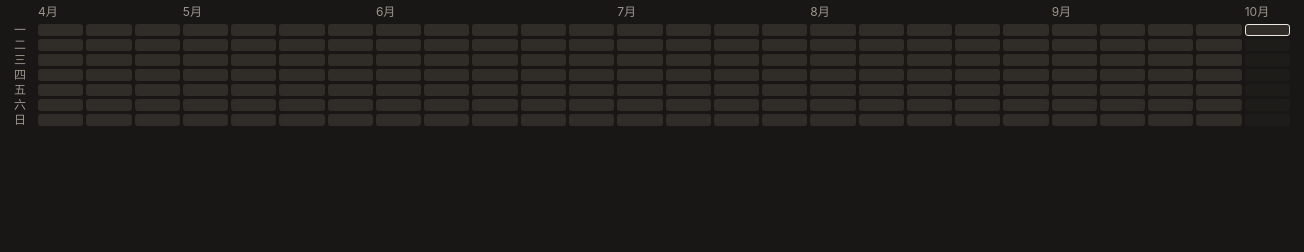
Test: keeps date interaction without explanatory headings
The image size is (1304, 252).
Click the button named "2026-10-05 · 0 次推进" at [1267, 30], box [1245,24,1290,36]
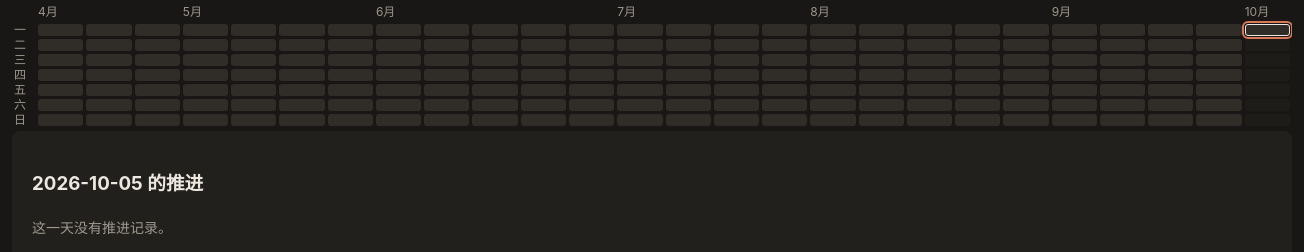
Result: the heading "2026-10-05 的推进" is shown at [32,172,203,195]
